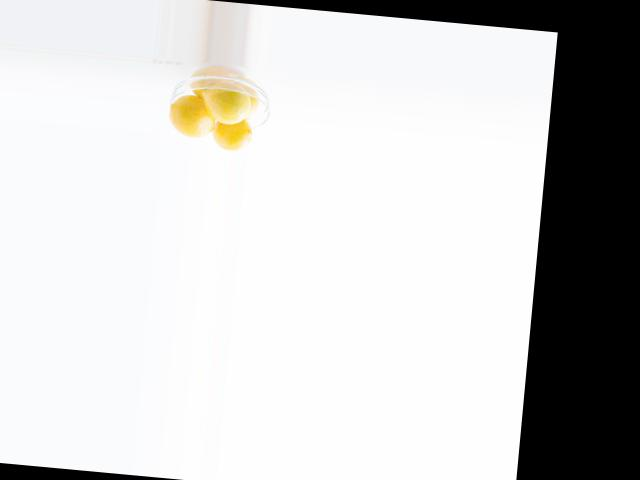lemon: (164, 99, 219, 139)
